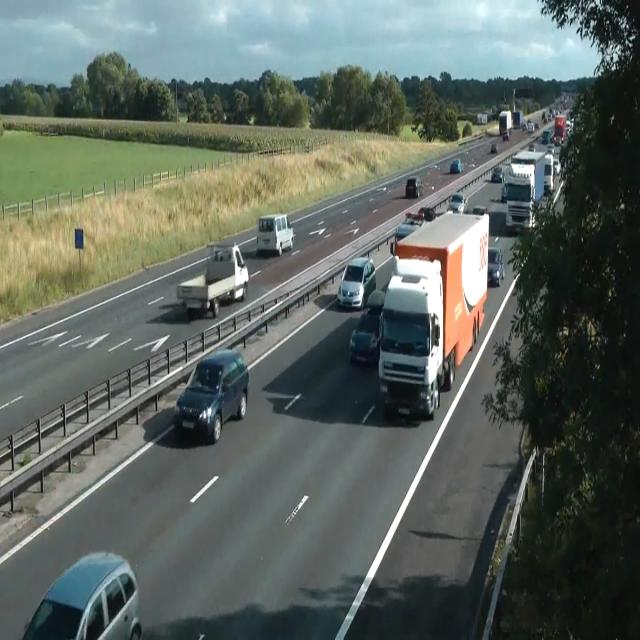bus: (349, 289, 385, 365), (487, 246, 505, 286), (447, 192, 468, 214), (405, 177, 423, 198), (418, 207, 436, 220), (491, 165, 503, 182), (450, 158, 462, 174), (472, 205, 488, 215), (542, 130, 550, 144), (490, 141, 498, 153), (546, 143, 554, 155), (502, 130, 509, 140), (521, 121, 527, 131)
jeep: (22, 550, 142, 638), (378, 268, 443, 420), (173, 348, 249, 443), (336, 254, 376, 310), (256, 212, 295, 256), (389, 212, 423, 255)
minibus: (377, 210, 489, 420), (177, 243, 249, 318), (503, 149, 555, 234), (498, 110, 512, 140), (554, 114, 566, 144), (512, 110, 524, 129), (477, 113, 488, 124)
